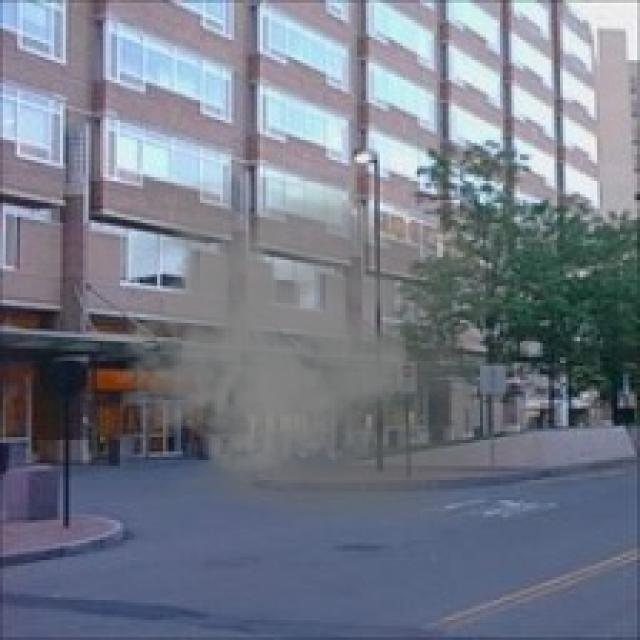Smoke: (114, 177, 512, 529)
